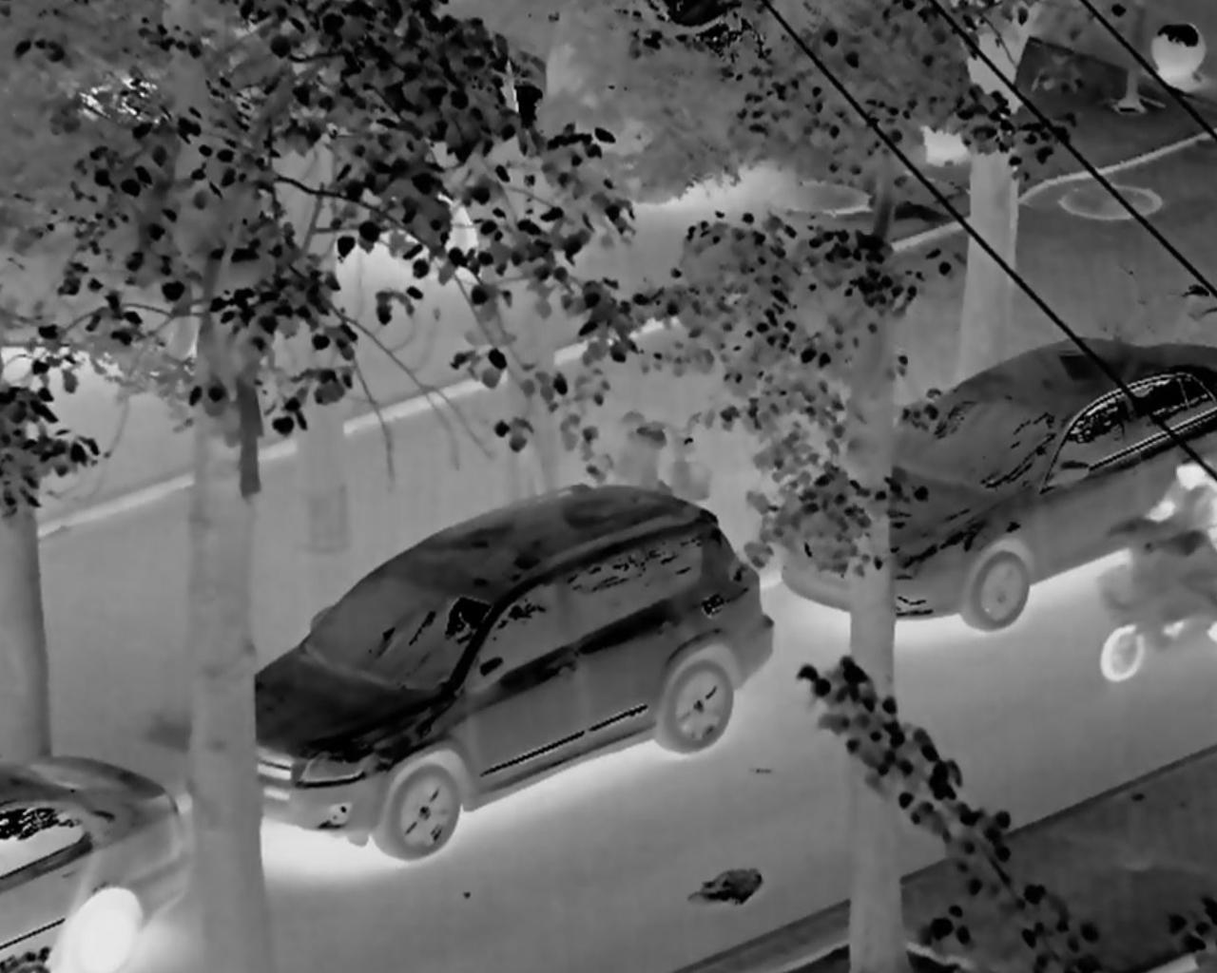person: (1108, 443, 1217, 677)
